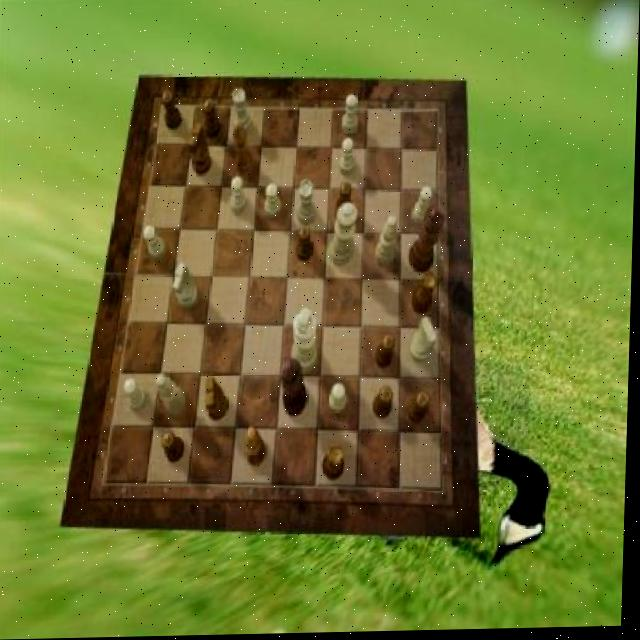bishop: (233, 120, 255, 176), (247, 428, 271, 468)
black-bishop: (282, 361, 311, 420)
black-king: (188, 124, 214, 177), (207, 377, 232, 423)
black-knight: (161, 92, 183, 131), (204, 101, 223, 141), (165, 432, 188, 465), (410, 394, 433, 426), (377, 335, 398, 370), (376, 390, 397, 423), (338, 183, 356, 221), (298, 227, 316, 263)
black-pawn: (410, 209, 447, 276)
black-queen: (414, 273, 440, 316), (326, 446, 349, 483)
black-rook: (158, 373, 190, 416), (376, 219, 400, 269)
white-bishop: (294, 310, 322, 375)
white-king: (411, 320, 439, 366), (174, 264, 201, 311)
white-knight: (126, 379, 151, 414), (144, 226, 169, 261), (415, 190, 435, 227), (343, 97, 360, 137), (232, 177, 249, 216), (340, 140, 357, 178), (265, 184, 283, 219), (332, 384, 350, 416)
white-pawn: (331, 204, 360, 267)
white-queen: (234, 89, 255, 137), (298, 180, 318, 227)
